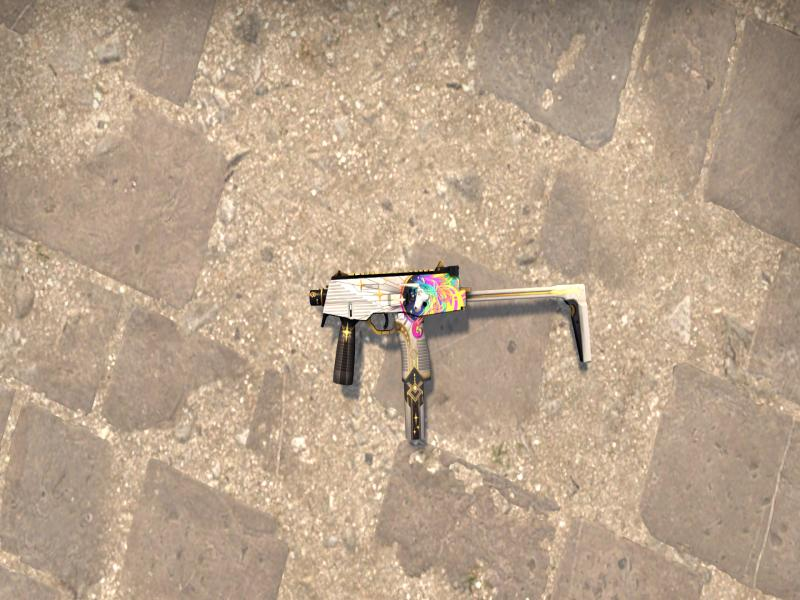MP9: (310, 264, 591, 444)
